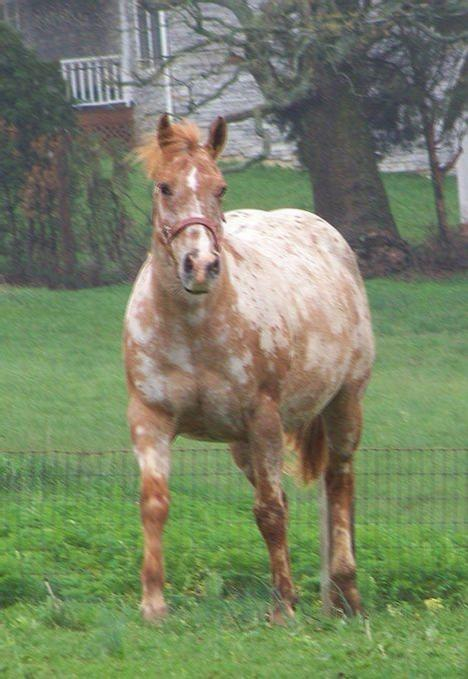horse: (121, 111, 376, 628)
